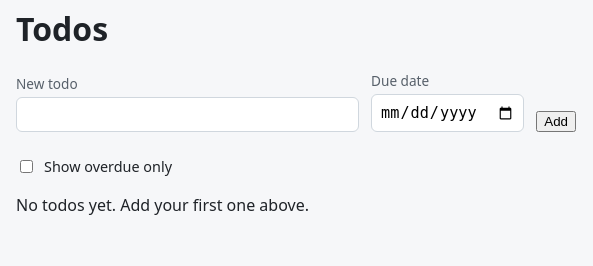
Test: does not send an empty todo
The width and height of the screenshot is (593, 266).
What coordinates should you click on to do the following:
click the button "Add"
I would click on:
 (556, 122)
Its box is [536,111,576,132].
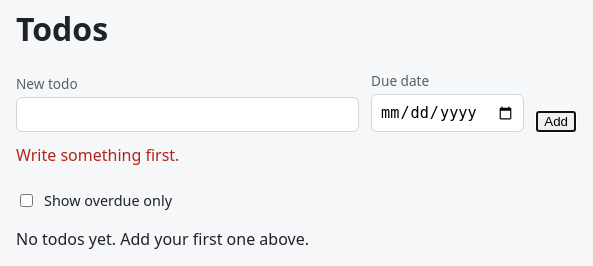
Expected: the message reads "Write something first.", [16,144,179,166]
